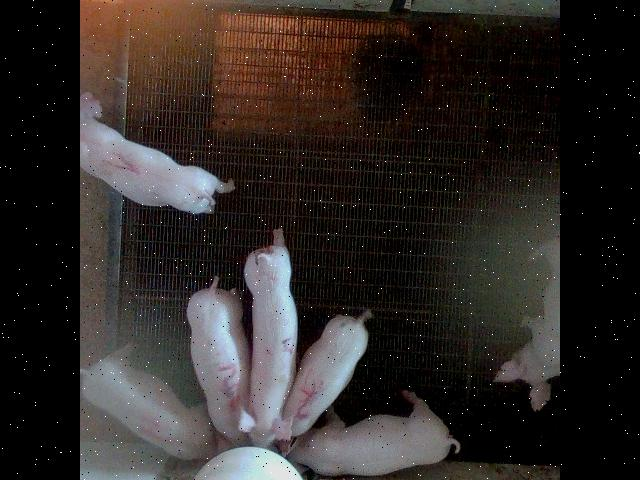pig-1: (81, 91, 235, 212)
pig-3: (187, 275, 250, 451)
pig-4: (82, 345, 214, 458)
pig-5: (283, 309, 371, 435)
